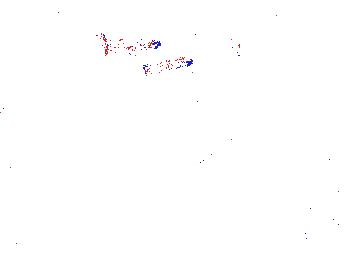X-ray fish: (26, 1, 75, 37)
glassfish: (172, 129, 260, 190)
redtail glassfish: (182, 29, 247, 59), (101, 33, 162, 56), (140, 54, 195, 78)
